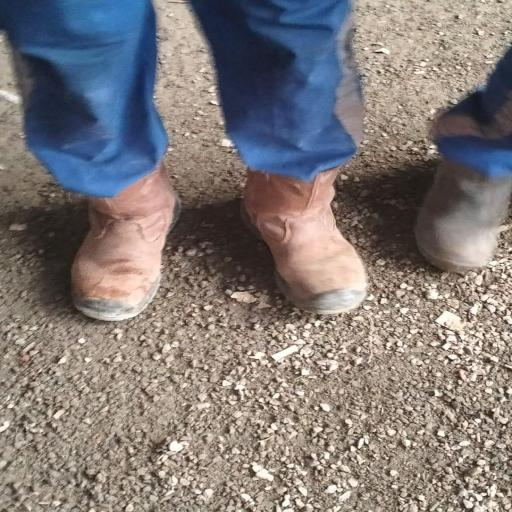safety_shoe: (231, 152, 372, 313), (68, 171, 184, 324), (415, 144, 505, 277)
